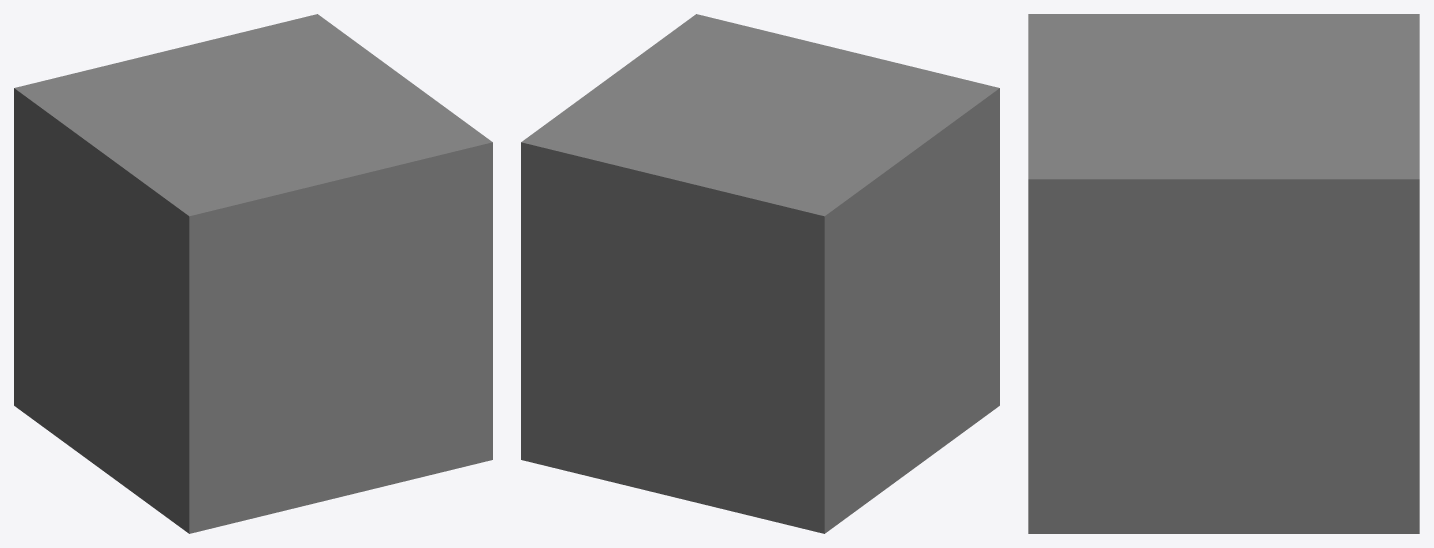
File: environment.gltf
3 views of the same model, side by side, from view 1: azimuth 30°, elevation 25°; view 2: azimuth 150°, elevation 25°; view 3: azimuth 270°, elevation 25° (orthographic). The views are drawn at different scales.
Visible parts, largest first — view 1: Cube; view 2: Cube; view 3: Cube.
Boxes of the visible parts, x1,y1,x2,y2 form: Cube: [14, 14, 492, 533]; Cube: [521, 14, 999, 533]; Cube: [1028, 14, 1419, 533].
Size of the model in its own units: 6.78 by 6.78 by 6.78.
2 materials, 2 textured.
